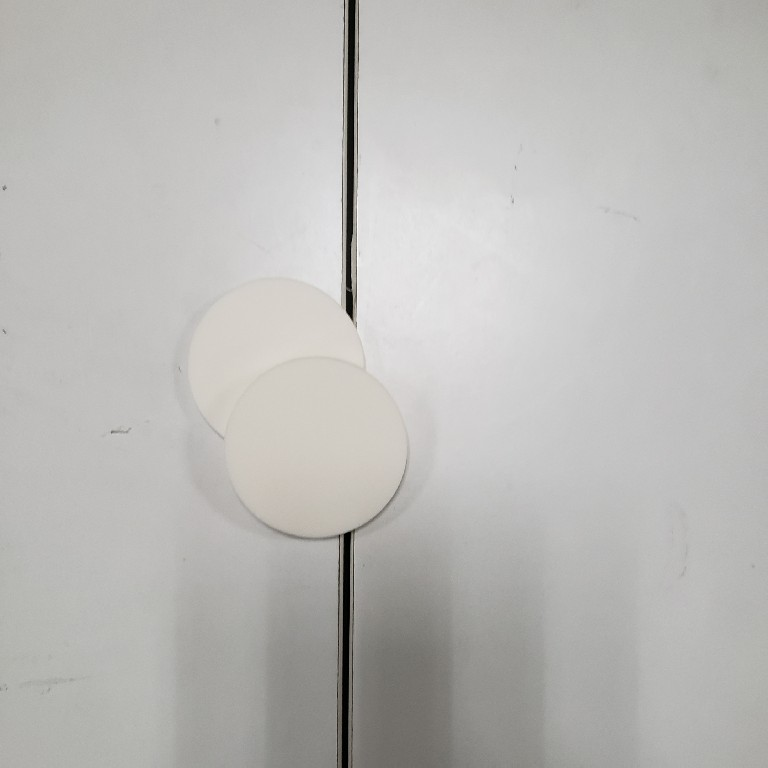ceramics: (181, 274, 411, 545)
